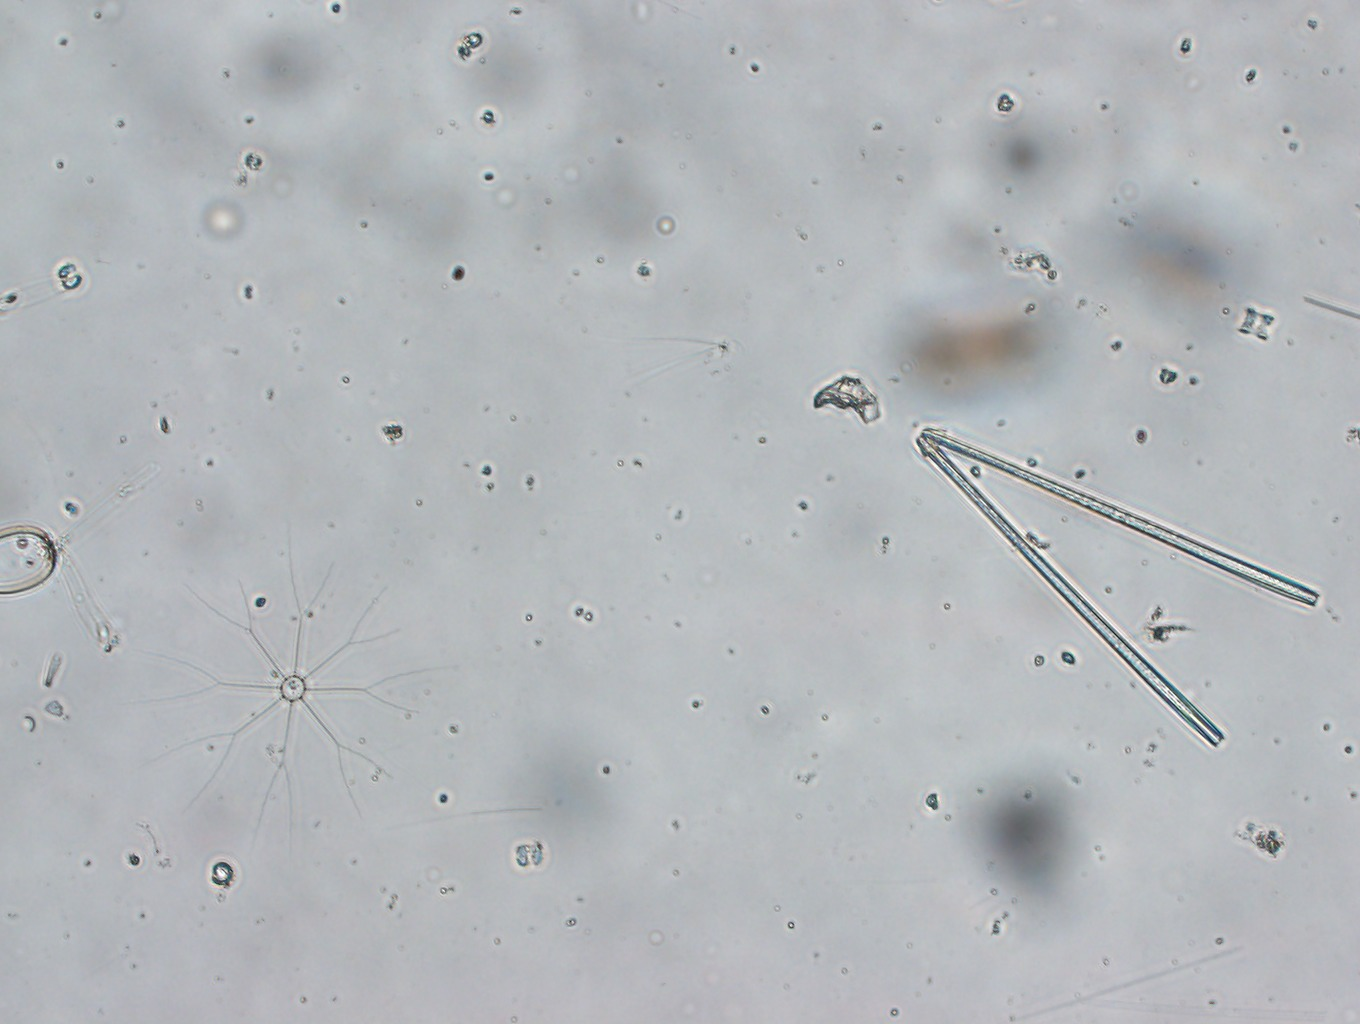bacteriastrum: (178, 561, 460, 815)
thalassionema frauenfeldii: (900, 422, 1330, 752)
